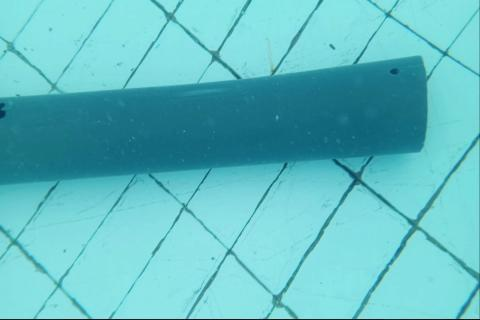kebocoran: (0, 101, 7, 120), (388, 66, 401, 75)
